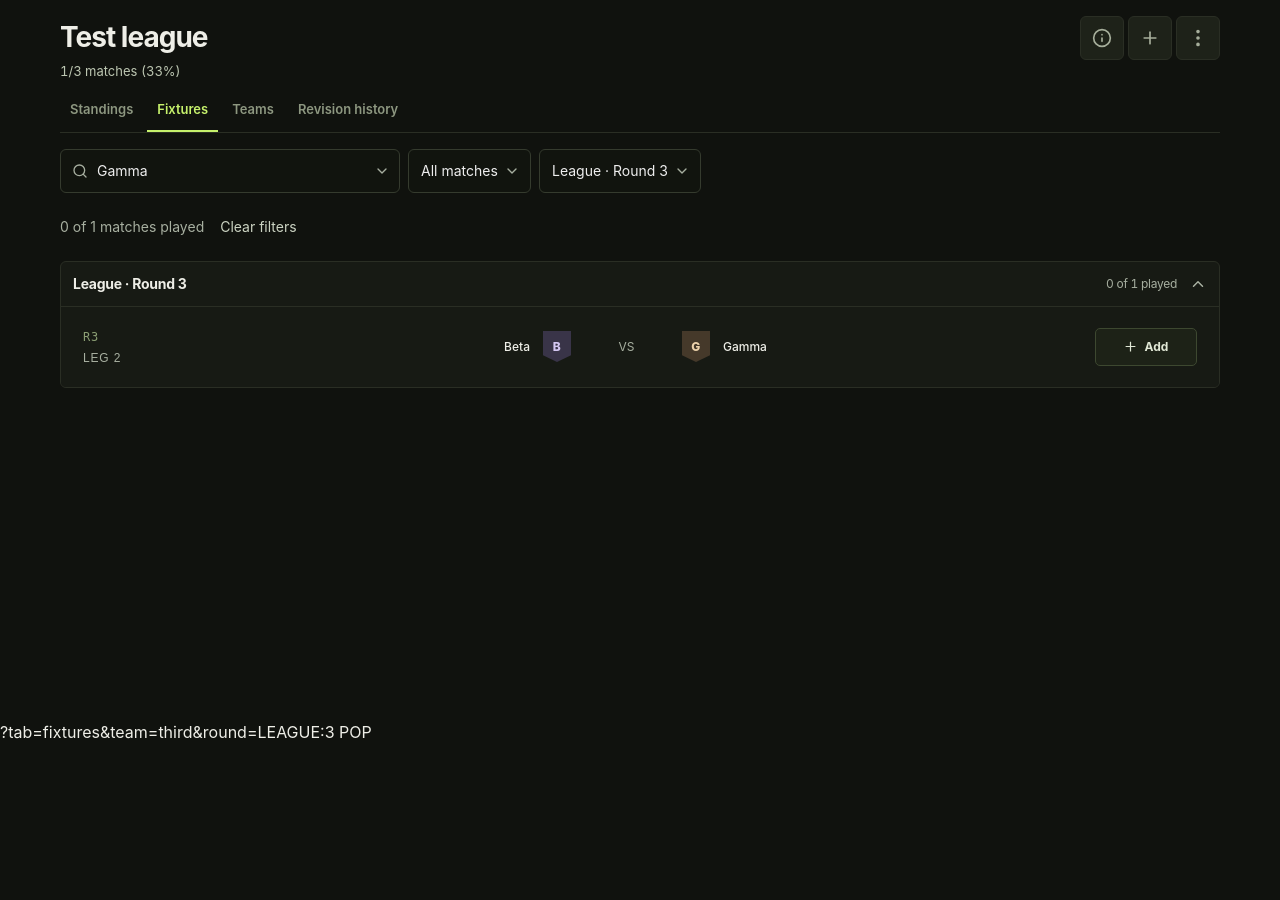
Test: picker shows both directions, unplayed first, and requires explicit selection independently of fixture filters
Click the button named "Enter result".
click(1150, 38)  # box [1128,16,1172,60]
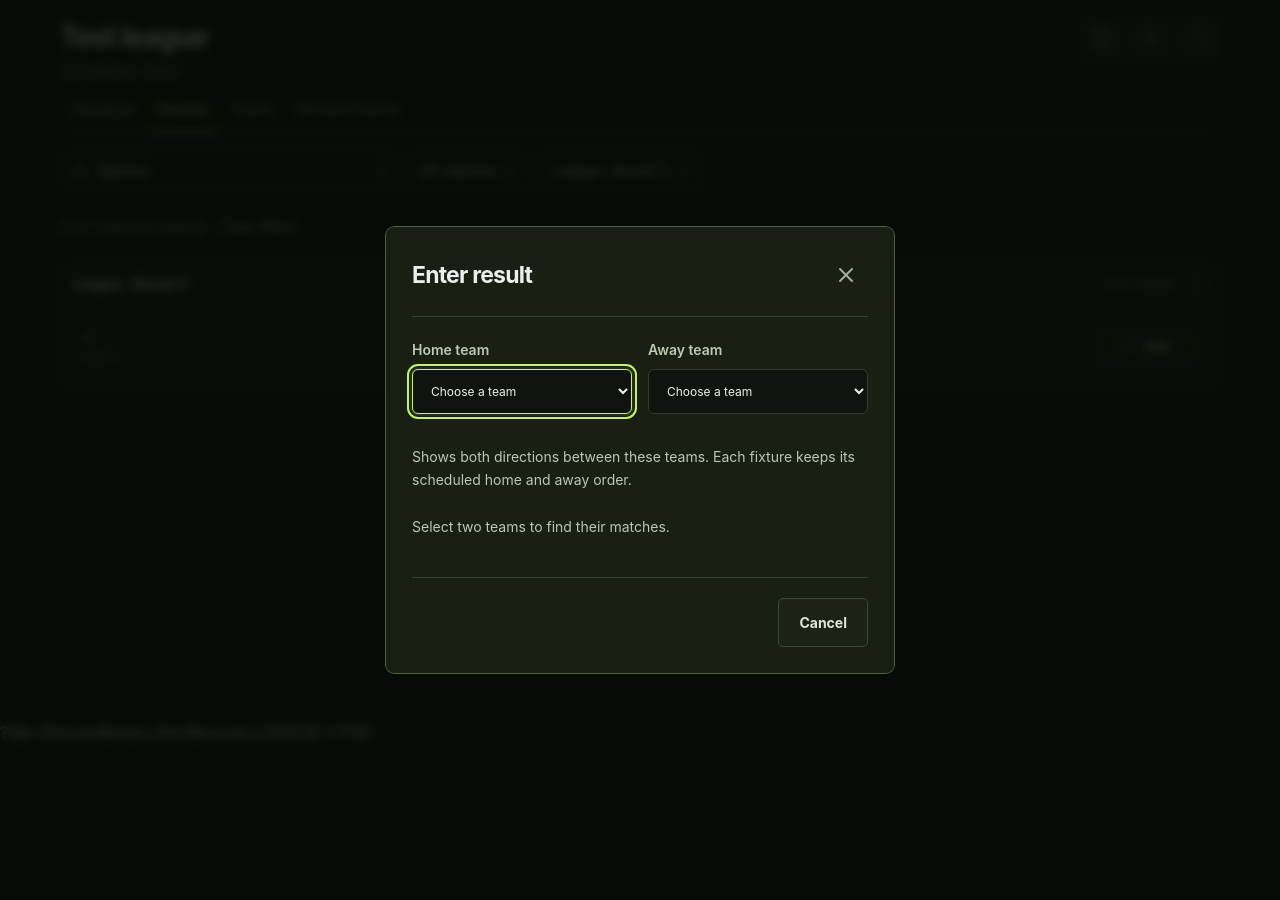
Select "Alpha" in the dropdown labelled "Home team" at (522, 391), box [412,369,632,414]
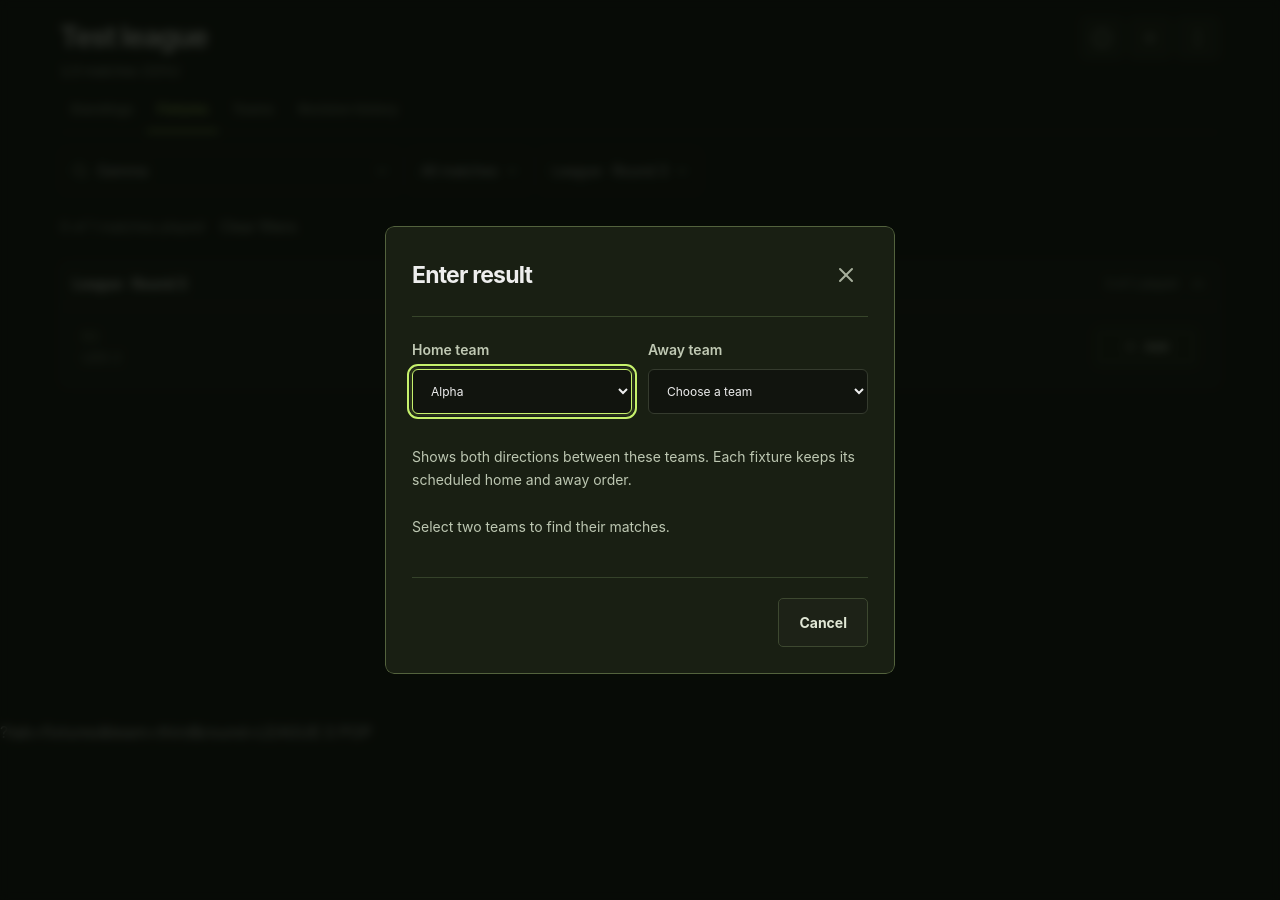
Select "Beta" in the dropdown labelled "Away team" at (758, 391), box [648,369,868,414]
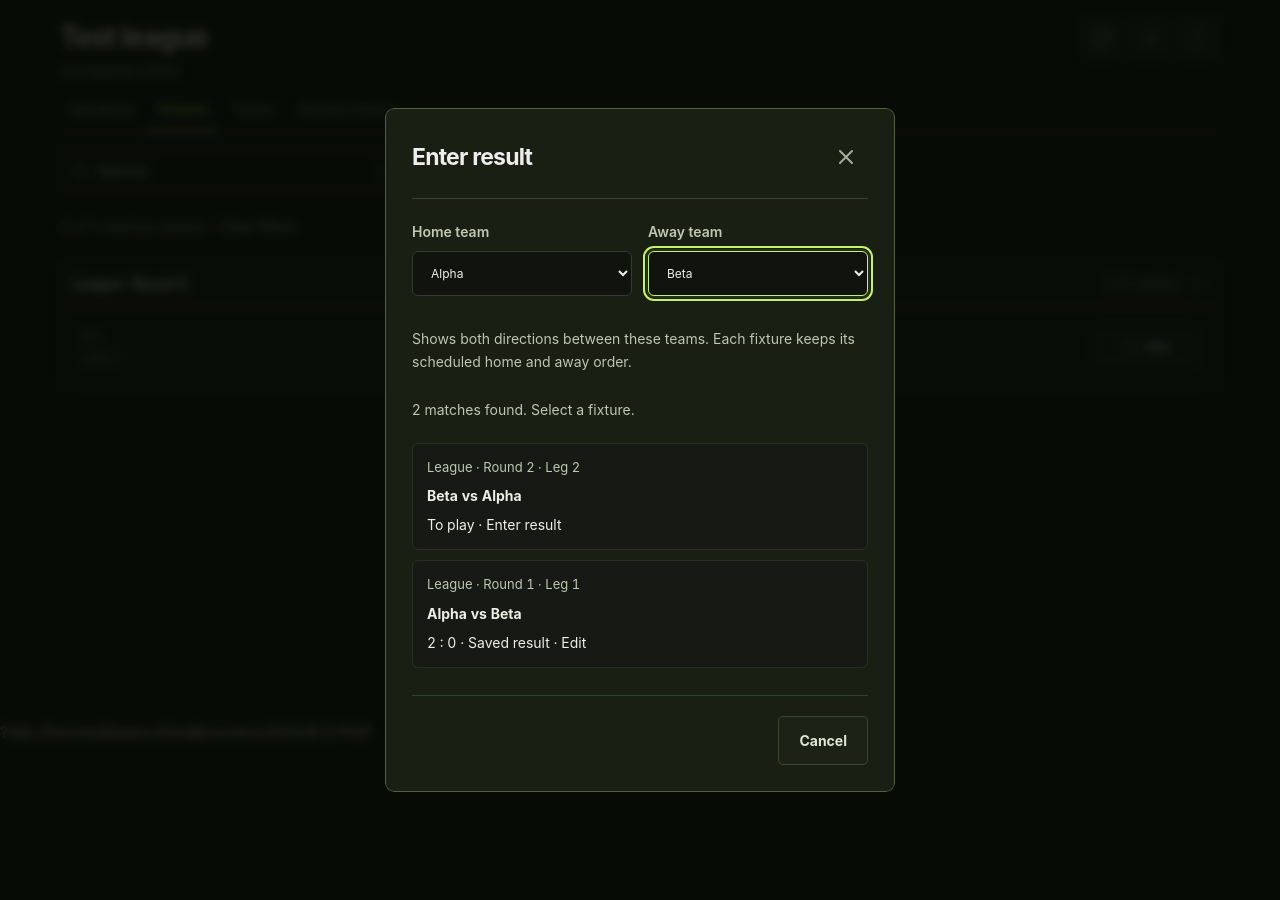
Now the number of buttons named "Select fixture:" is 2
Now the button with aria-label "Select fixture:" shows "Beta"
Now the button with aria-label "Select fixture:" shows "To play"
Click the button with aria-label "Select fixture:".
click(450, 467)  # box [412,443,868,550]
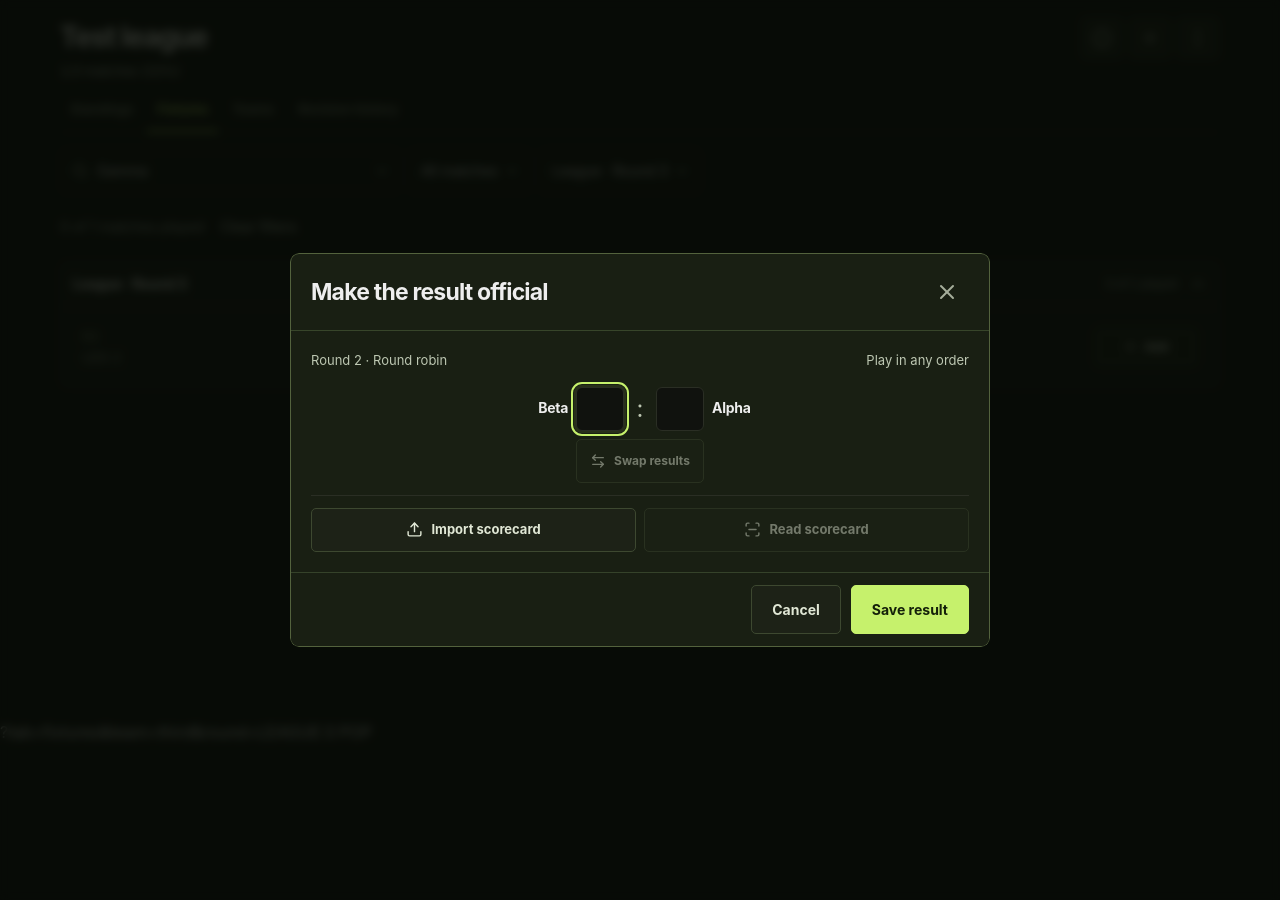
Now the text "Round 2 · Round robin" is shown, box [311,351,447,371]
Click the button "Cancel".
click(796, 609)  # box [751,585,841,634]
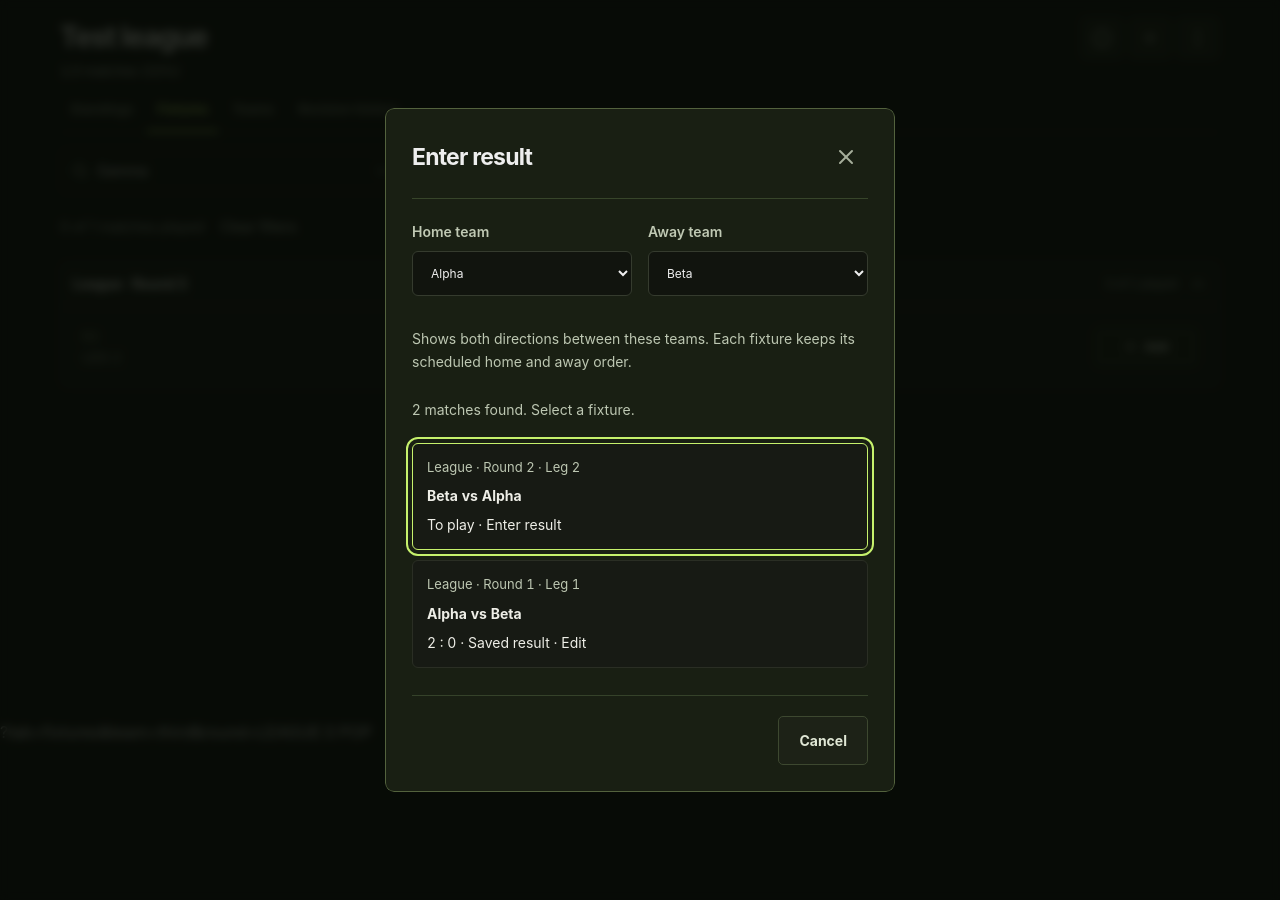
Now the dropdown labelled "Home team" shows "Alpha", box [412,251,632,296]
Now the dropdown labelled "Away team" shows "Beta", box [648,251,868,296]
